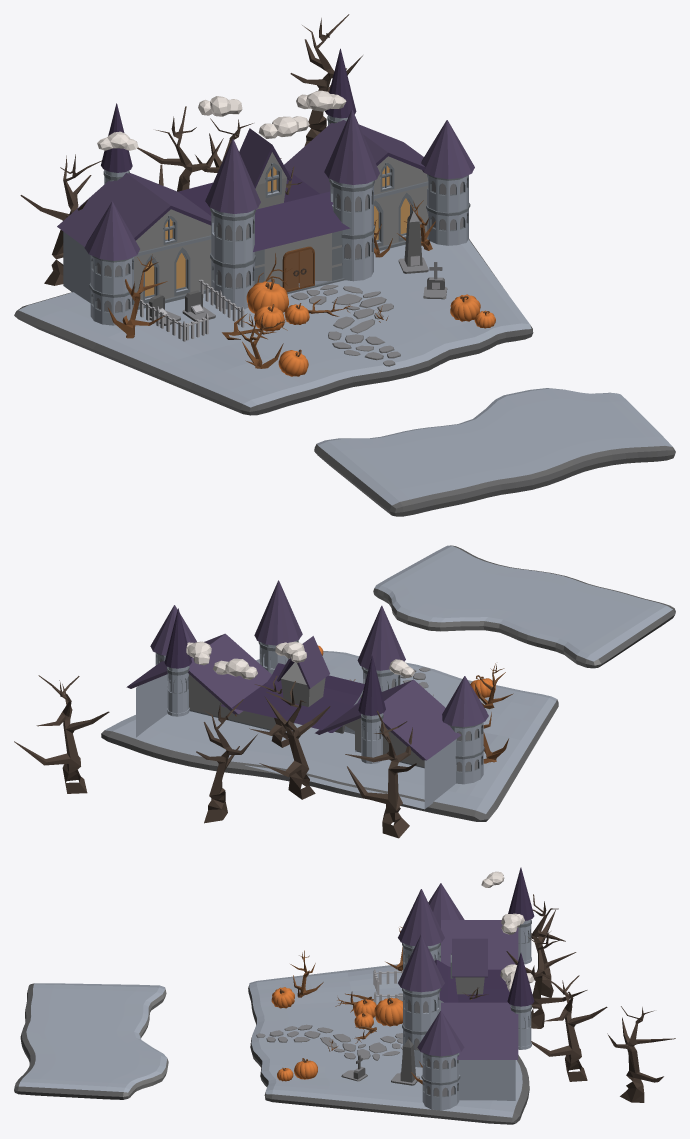
The model's file is halloween.fbx.
3 renders of one model, top to bottom at view 1: azimuth 30°, elevation 25°; view 2: azimuth 150°, elevation 25°; view 3: azimuth 270°, elevation 25°, orthographic. The views are drawn at different scales.
Parts seen in each view (by area): view 1: ground, castle, forest, clouds.001, grave.003, grave.001; view 2: ground, castle, forest, clouds.001; view 3: ground, castle, forest, clouds.001, grave.003.
Boxes of the visible parts, x1,y1,x2,y2 form: ground: (14, 239, 675, 516); castle: (57, 48, 474, 366); forest: (20, 14, 495, 376); clouds.001: (97, 90, 346, 150); grave.003: (398, 211, 428, 273); grave.001: (149, 290, 215, 325); ground: (101, 545, 675, 821); castle: (126, 580, 488, 809); forest: (14, 645, 513, 838); clouds.001: (186, 641, 414, 679); ground: (14, 964, 529, 1124); castle: (256, 867, 534, 1110); forest: (271, 894, 675, 1102); clouds.001: (481, 871, 534, 991); grave.003: (391, 1039, 419, 1085).
Bounding box in the file's own units: 4969 × 2147 × 8273.
1 material, 1 textured.
